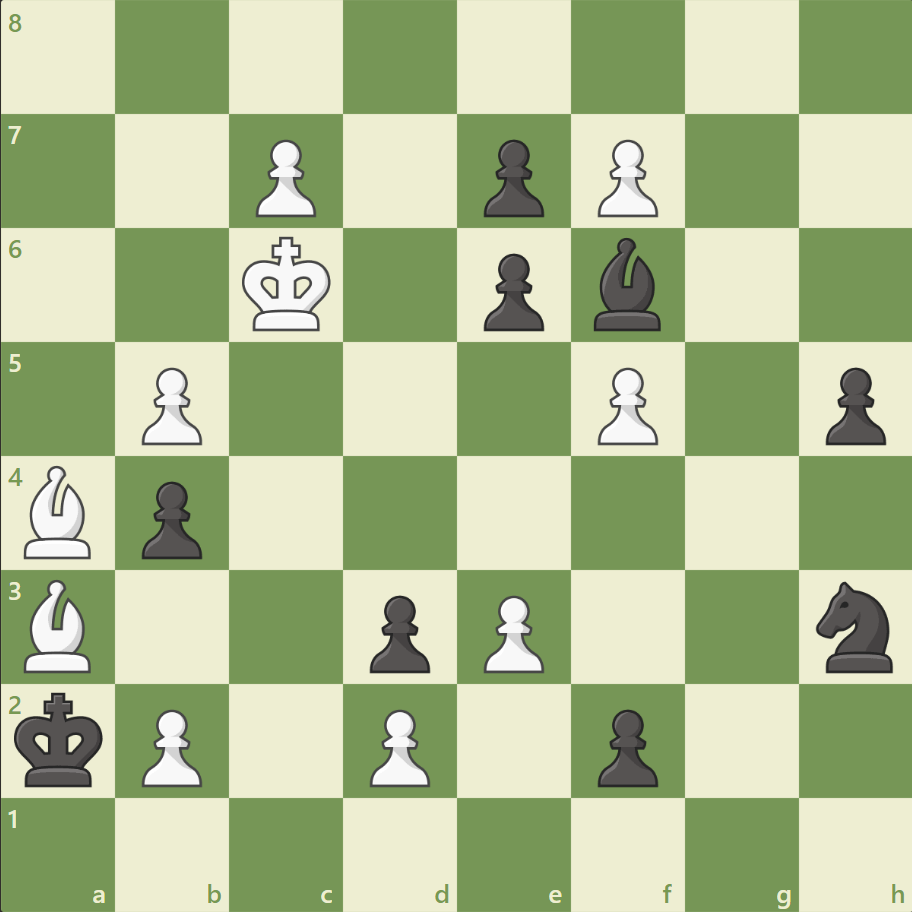B: (17, 460, 101, 563), (17, 574, 101, 676)
K: (238, 231, 338, 339)
P: (247, 132, 322, 223), (133, 359, 208, 450), (474, 586, 549, 677), (133, 700, 208, 791), (588, 132, 662, 223), (588, 359, 662, 450), (361, 700, 435, 791)
b: (585, 233, 669, 336)
k: (11, 685, 111, 793)
n: (806, 575, 903, 677)
p: (474, 132, 549, 223), (474, 246, 549, 337), (133, 473, 208, 564), (815, 359, 889, 450), (361, 586, 435, 677), (588, 700, 662, 791)
